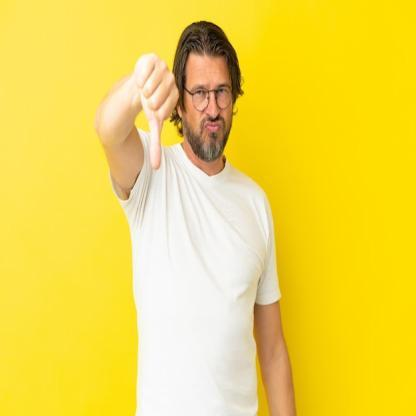thumb_down: (133, 48, 180, 172)
